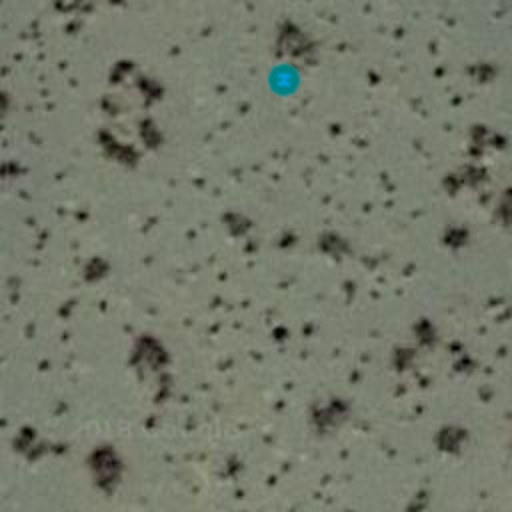octagon: (264, 60, 304, 100)
